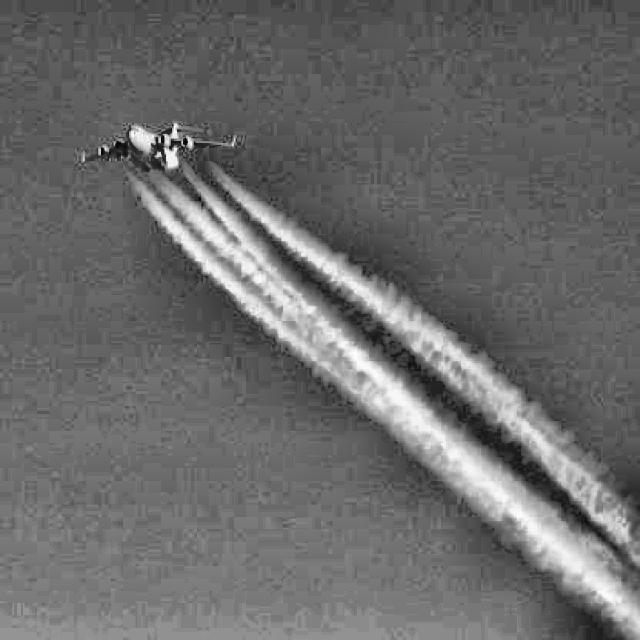C17: (81, 121, 237, 172)
